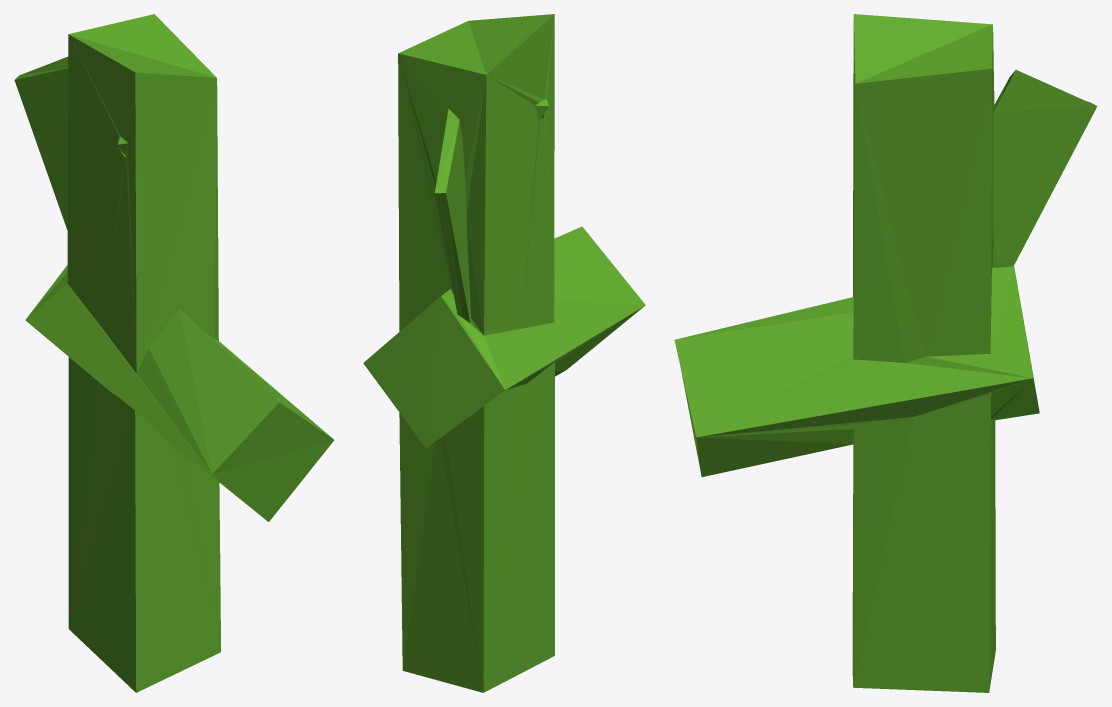
3 views of the same model, side by side, from view 1: azimuth 30°, elevation 25°; view 2: azimuth 150°, elevation 25°; view 3: azimuth 270°, elevation 25° (orthographic). The views are drawn at different scales.
Parts seen in each view (by area): view 1: 939_Cube.3795; view 2: 939_Cube.3795; view 3: 939_Cube.3795.
Boxes of the visible parts, left/top/right/bottom form: 939_Cube.3795: left=14, top=14, right=334, bottom=692; 939_Cube.3795: left=363, top=14, right=645, bottom=692; 939_Cube.3795: left=674, top=14, right=1097, bottom=692.
Bounding box in the file's own units: 3.27 × 12.47 × 7.35.
